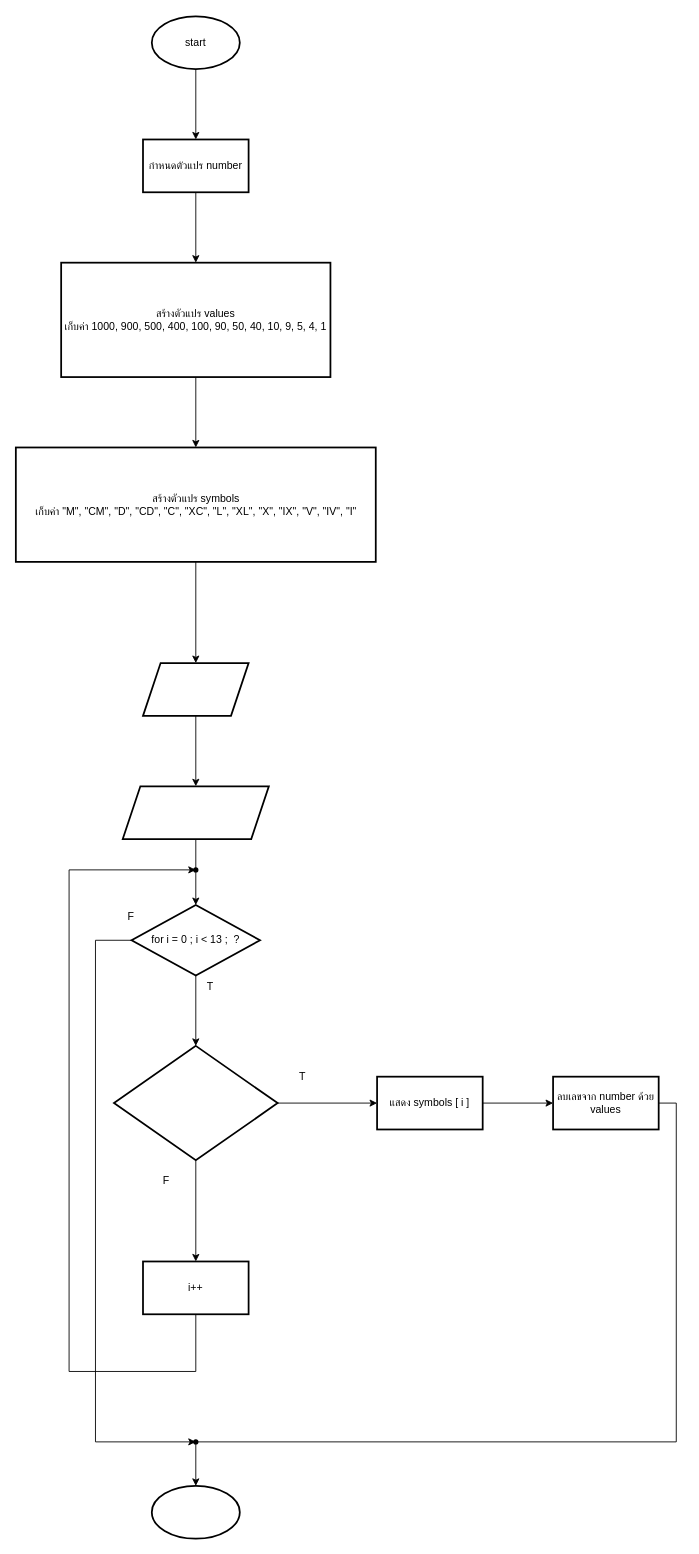
Image size: 699x1554. Some labels were removed from this diagram. Each missing label, with the centre of its shape:
"end" goes at point (195, 1512).
"number >= values[i] ?" goes at point (195, 1103).
"รับค่าจากผู้ใช้" goes at point (195, 689).
"แสดง ตัวเลขที่ผู้ใช้ป้อน =" goes at point (195, 812).
